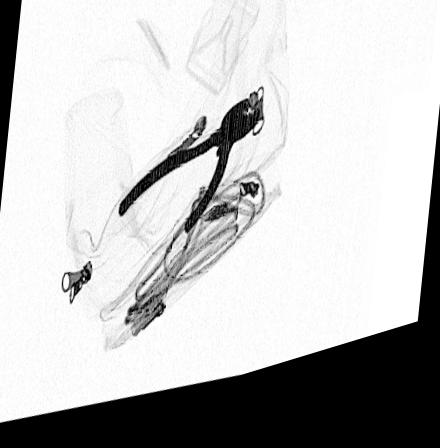Pliers: (117, 111, 261, 247)
